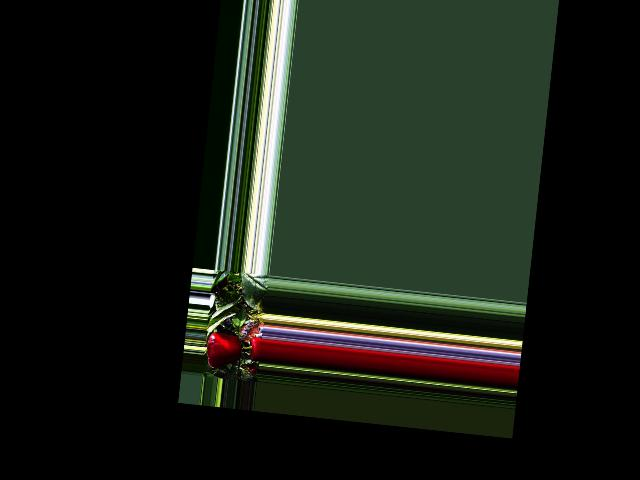bell_pepper: (245, 333, 263, 363)
